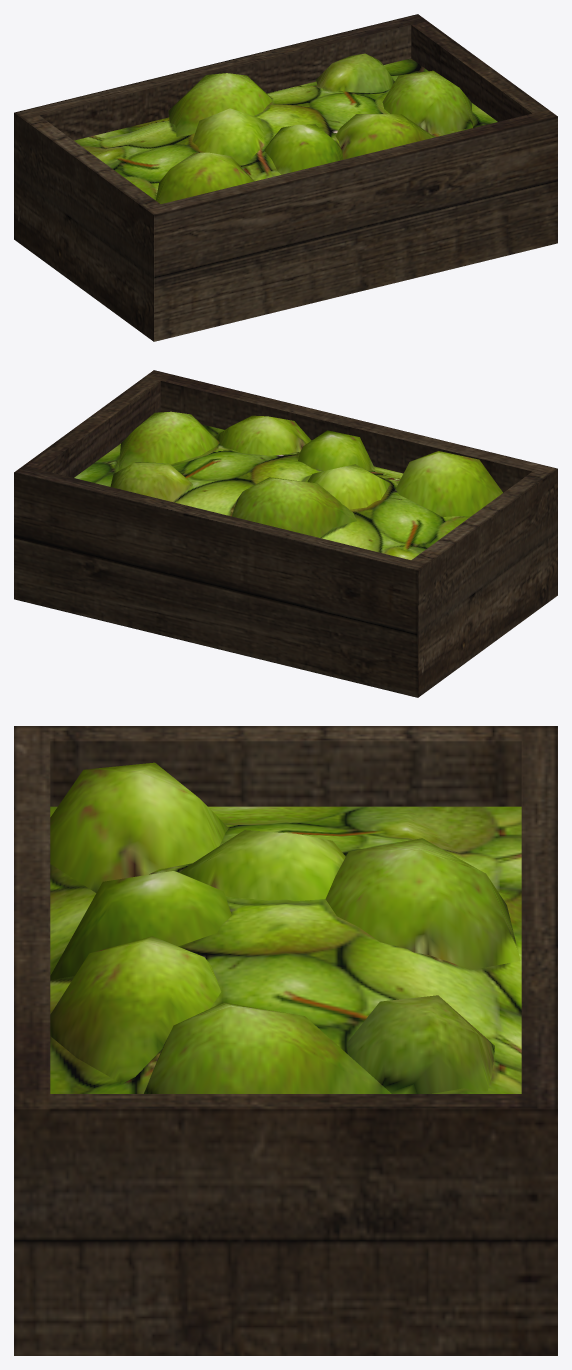
The model's file is Fruits2.fbx.
The picture shows the model from 3 angles, top to bottom: view 1: azimuth 30°, elevation 25°; view 2: azimuth 150°, elevation 25°; view 3: azimuth 270°, elevation 25°; orthographic projection. The views are drawn at different scales.
Parts seen in each view (by area): view 1: polySurface90; view 2: polySurface90; view 3: polySurface90.
Boxes of the visible parts, box(x1,y1,x2,y2) form: polySurface90: box(14, 14, 557, 341); polySurface90: box(14, 370, 557, 697); polySurface90: box(14, 726, 557, 1355).
Size of the model in its own units: 3.91 by 1.38 by 2.34.
